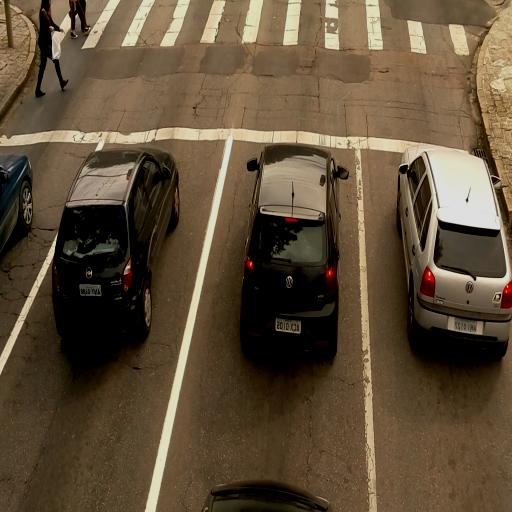car: (53, 144, 180, 341), (396, 141, 512, 354), (238, 141, 348, 356), (205, 479, 334, 511), (0, 152, 34, 269)
